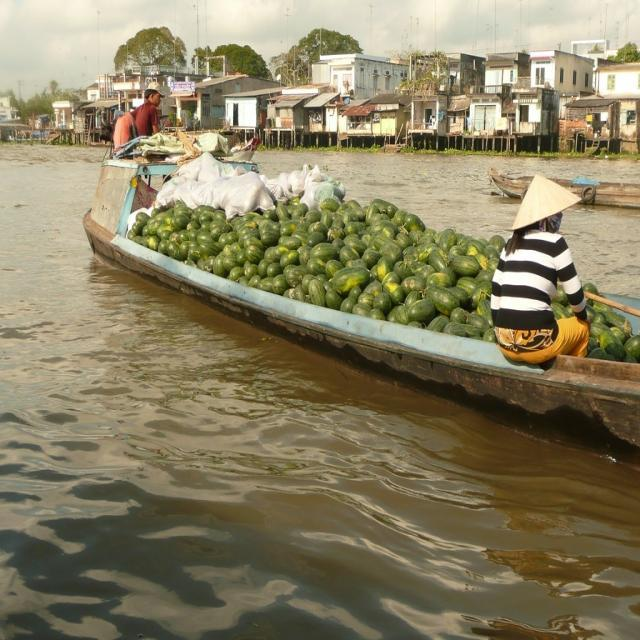boat: (72, 136, 640, 412)
